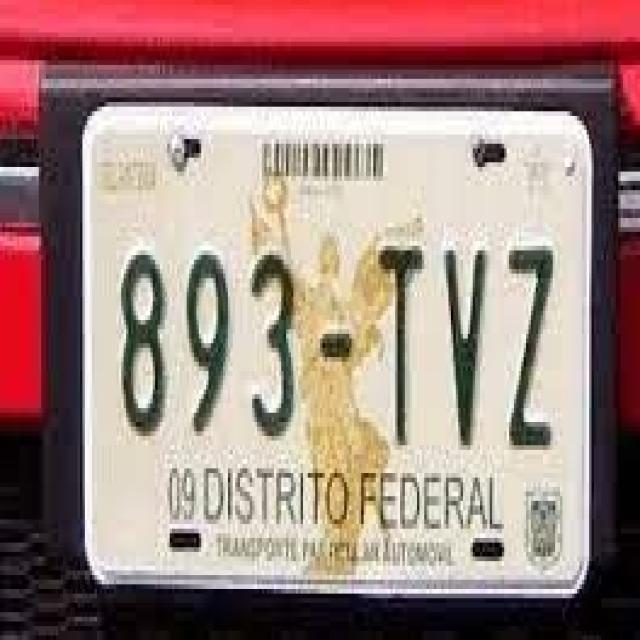placa: (83, 225, 590, 471)
